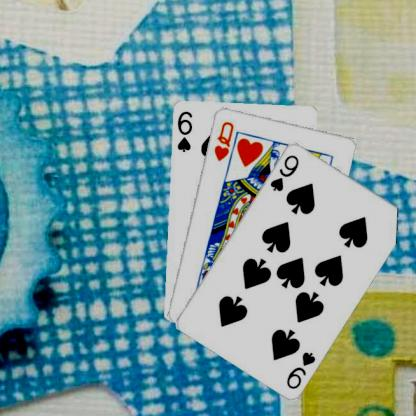6S: (174, 108, 193, 153)
9S: (283, 348, 317, 390), (267, 151, 300, 193)
QH: (210, 119, 235, 162)
